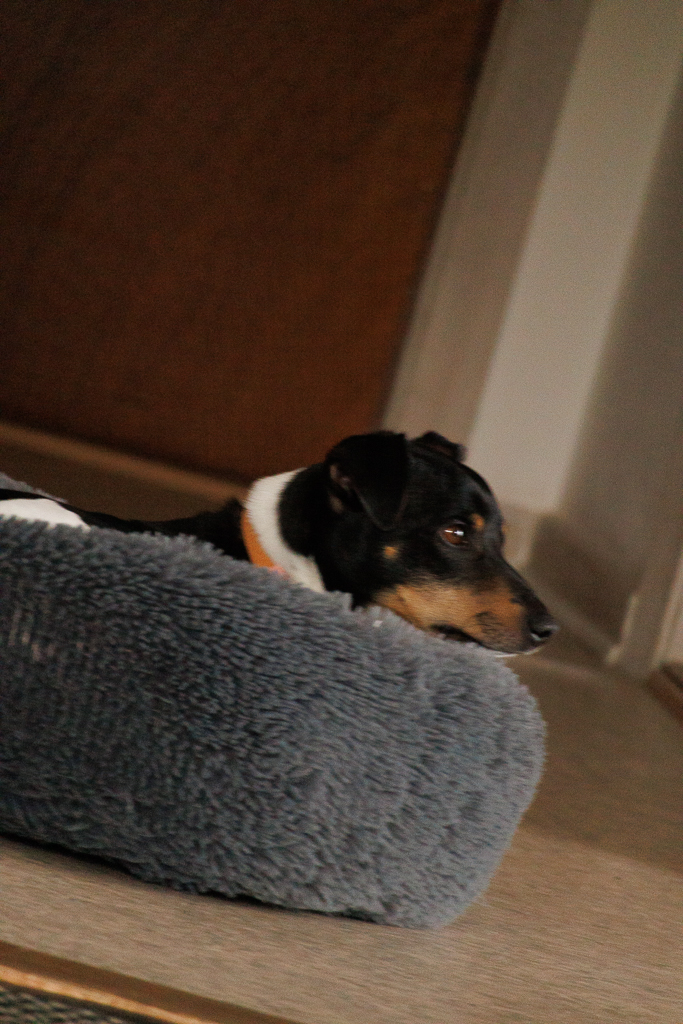Dog: (0, 424, 573, 673)
